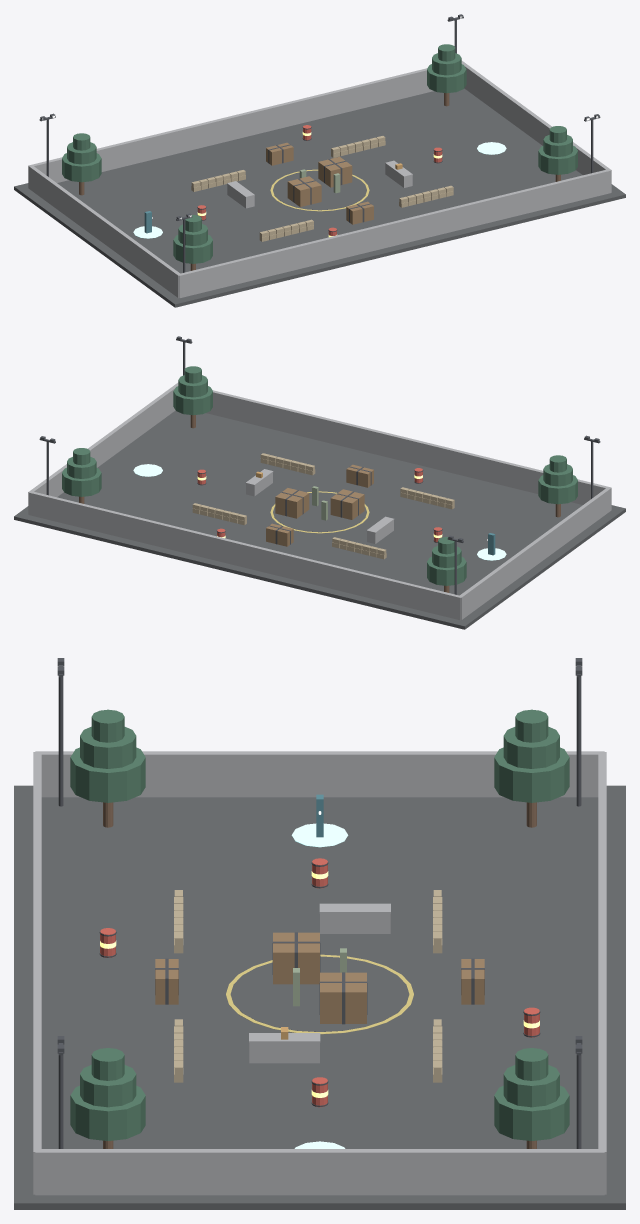
File: duel_pit_arena.glb
3 renders of one model, top to bottom at view 1: azimuth 30°, elevation 25°; view 2: azimuth 150°, elevation 25°; view 3: azimuth 270°, elevation 25°, orthographic. The views are drawn at different scales.
Visible parts, largest first — view 1: DuelPit_Arena_Object; view 2: DuelPit_Arena_Object; view 3: DuelPit_Arena_Object.
Boxes of the visible parts, box(x1,y1,x2,y2) form: DuelPit_Arena_Object: box(14, 14, 625, 307); DuelPit_Arena_Object: box(14, 336, 625, 629); DuelPit_Arena_Object: box(14, 658, 625, 1209).
Bounding box in the file's own units: 42 × 6.92 × 26.
